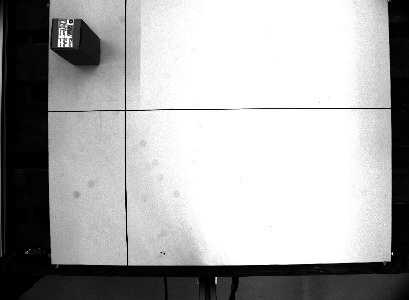b2: (50, 15, 102, 68)
